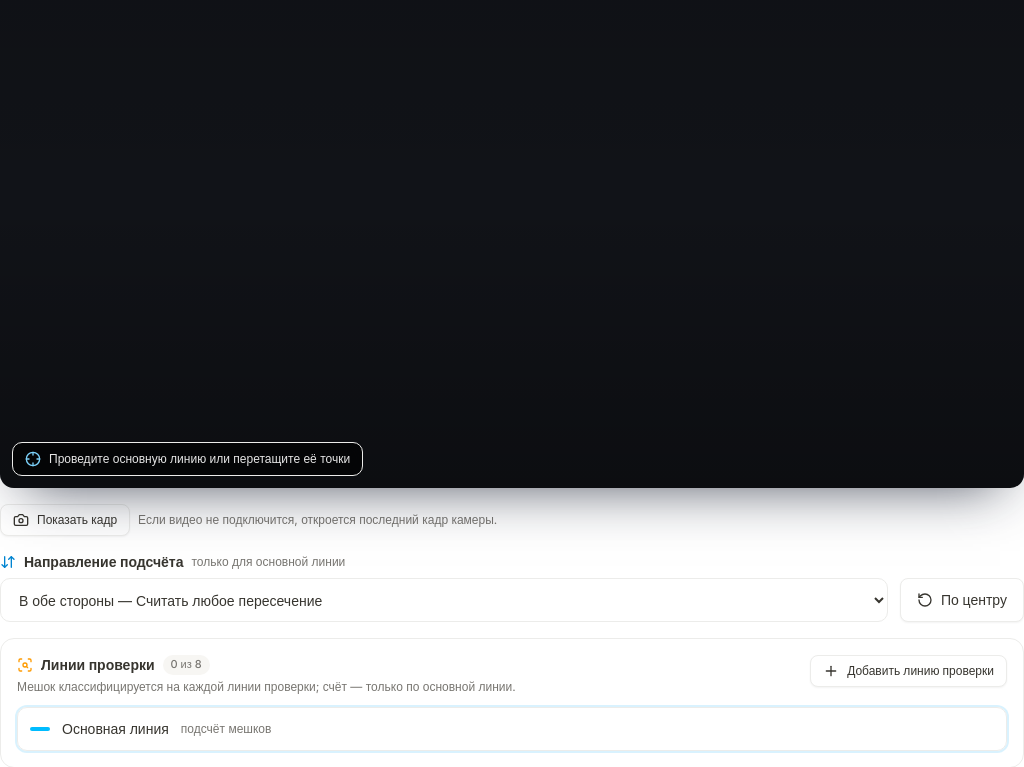
CameraLineEditor verification lines › adds a line with a stable slug id, default name and its own colour
(page scrolled)
Click the button "Добавить линию проверки".
click(909, 671)  # box [810, 655, 1007, 687]
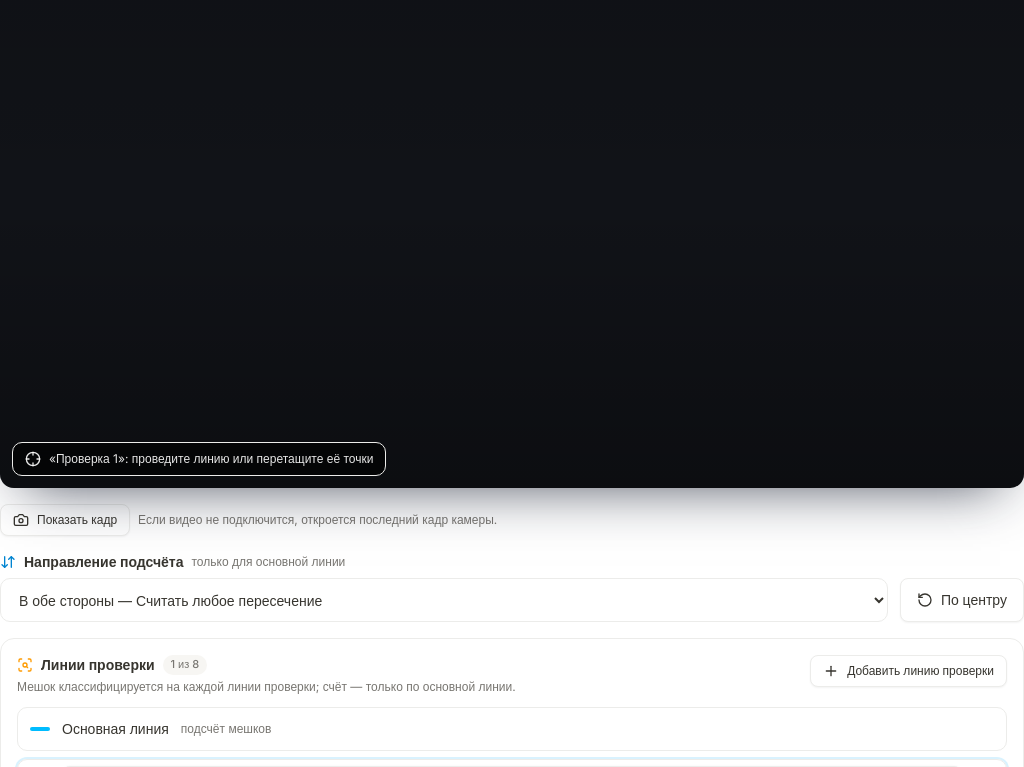
Check: the text "1 из 8" is shown, box [163, 655, 207, 675]
